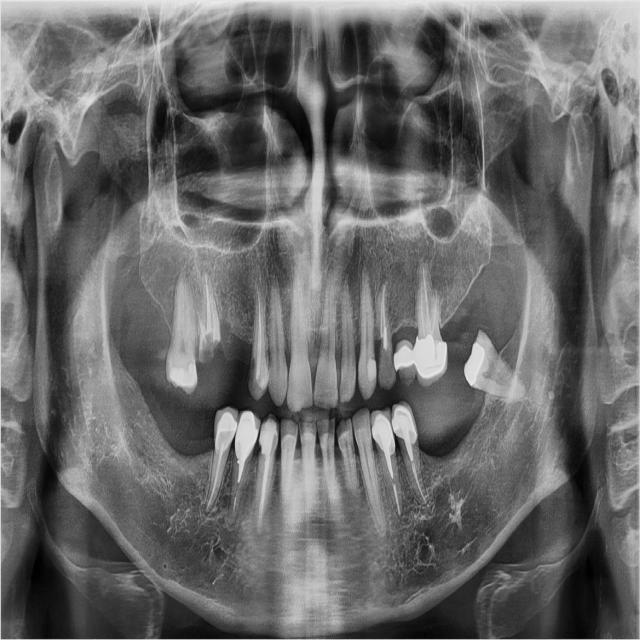Caries: (378, 350, 394, 386), (248, 354, 258, 390)
Crown: (415, 334, 446, 386), (214, 405, 239, 456), (235, 411, 260, 461), (370, 406, 395, 453), (392, 399, 418, 442), (394, 341, 416, 386)
Filling: (464, 342, 485, 387), (170, 360, 197, 389), (259, 418, 276, 458), (367, 355, 376, 381)
Missing teeth: (411, 379, 489, 459), (139, 381, 217, 456), (215, 321, 255, 394)
Root Canal Treatment: (207, 443, 224, 511), (256, 454, 270, 532), (411, 463, 426, 504), (255, 294, 262, 379), (424, 267, 431, 335), (380, 285, 386, 337), (392, 483, 401, 515), (432, 288, 438, 333), (421, 283, 425, 337), (233, 495, 238, 512)
Root Piece: (190, 270, 212, 364), (202, 268, 222, 358)
